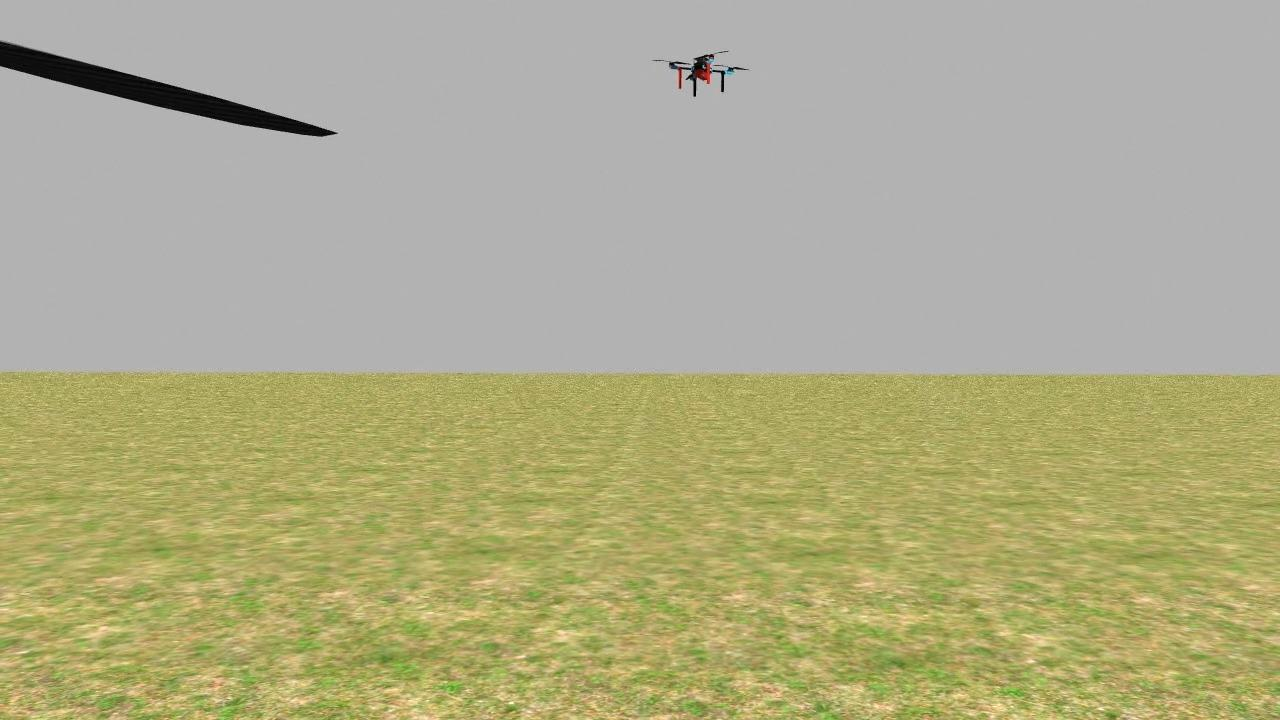UAV: (646, 39, 752, 108)
